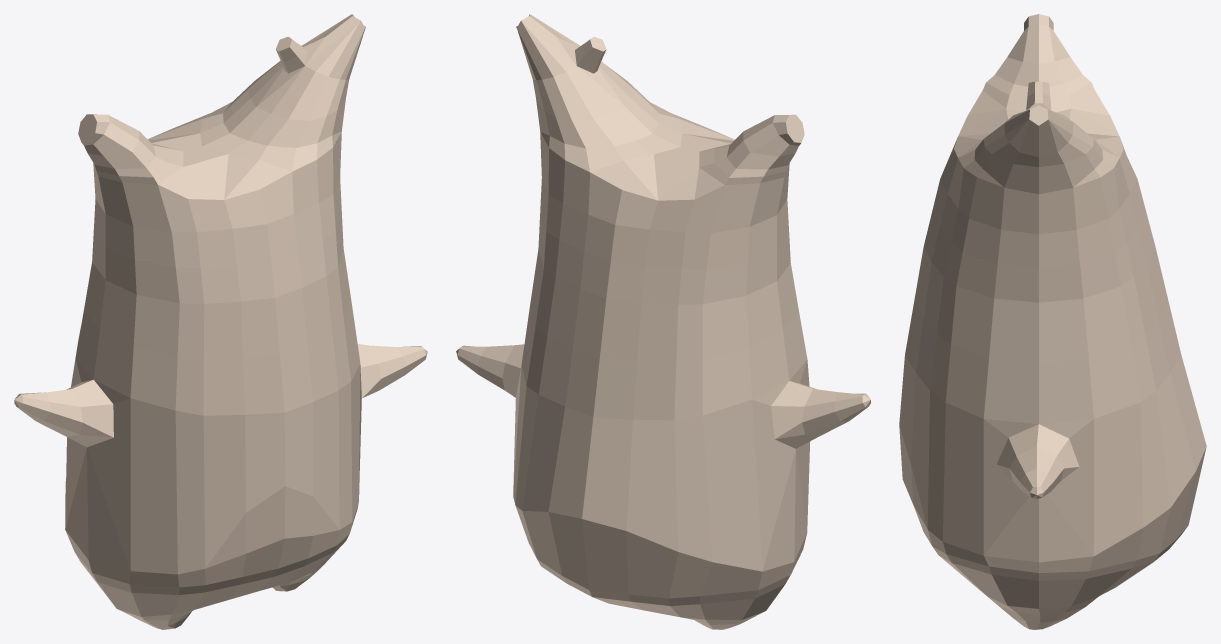
File: frame_0145.obj
The picture shows the model from 3 angles, left to right: view 1: azimuth 30°, elevation 25°; view 2: azimuth 150°, elevation 25°; view 3: azimuth 270°, elevation 25°; orthographic projection.
Visible parts, largest first — view 1: korok; view 2: korok; view 3: korok.
Boxes of the visible parts, bbox=[...] form: korok: bbox=[14, 14, 427, 629]; korok: bbox=[456, 14, 870, 629]; korok: bbox=[899, 14, 1206, 629].
Bounding box in the file's own units: 1.66 × 2.17 × 1.07.
